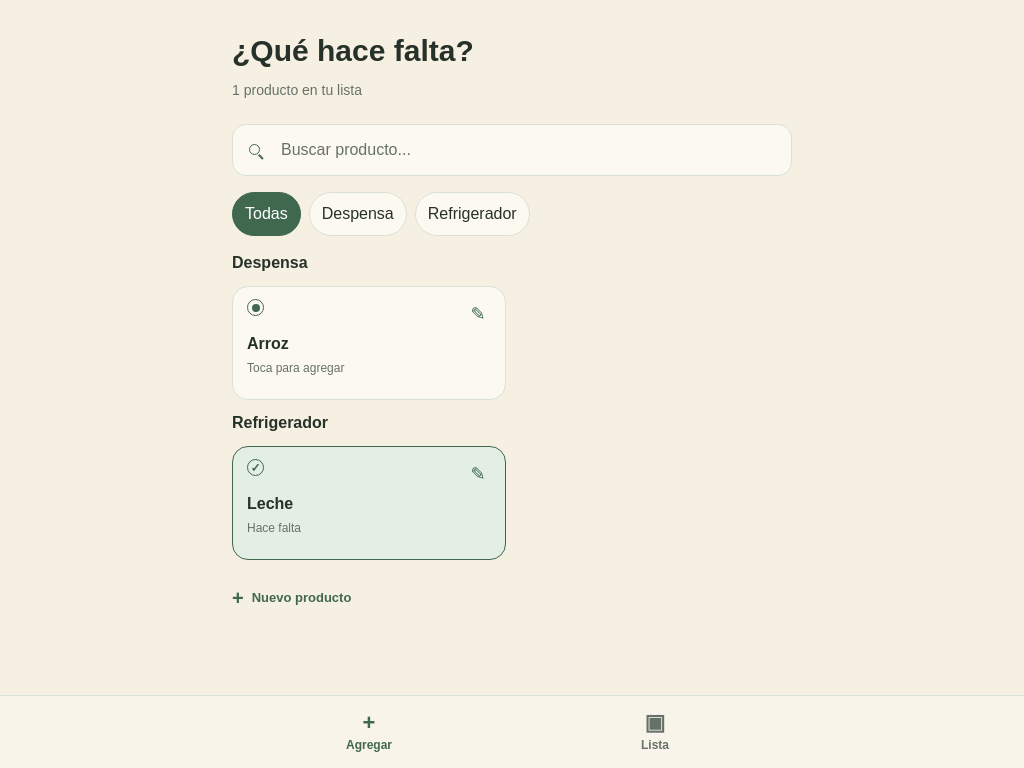
it: catálogo y lista pendiente › muestra solo pendientes en /list y permite quitarlos
The width and height of the screenshot is (1024, 768).
What coordinates should you click on to do the following:
click the link with aria-label "Lista (1)"
I would click on:
 (655, 730)
Its box is [641,710,669,752].
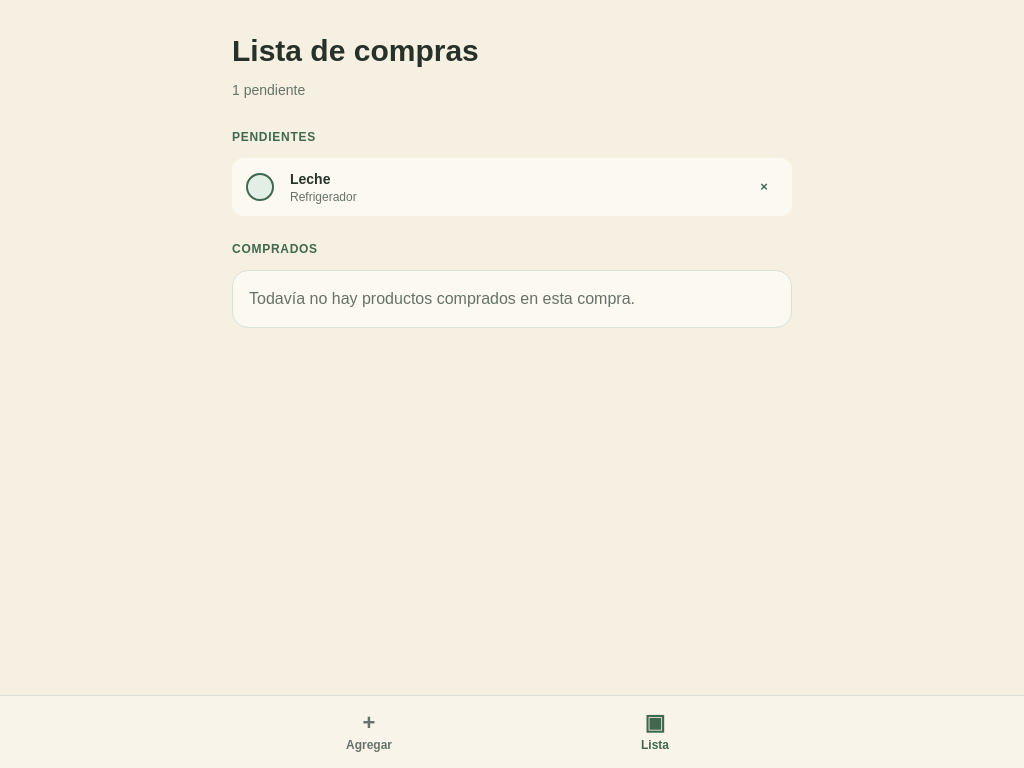
Expected: the heading "Leche" is shown, [290,171,330,187]
Now the button "Arroz" is gone
Now the text "1 pendiente" is shown, box [232,82,305,98]
What coordinates should you click on to do the following:
click the button named "Quitar de la lista"
I would click on:
 (764, 187)
Its box is [742,165,786,209].
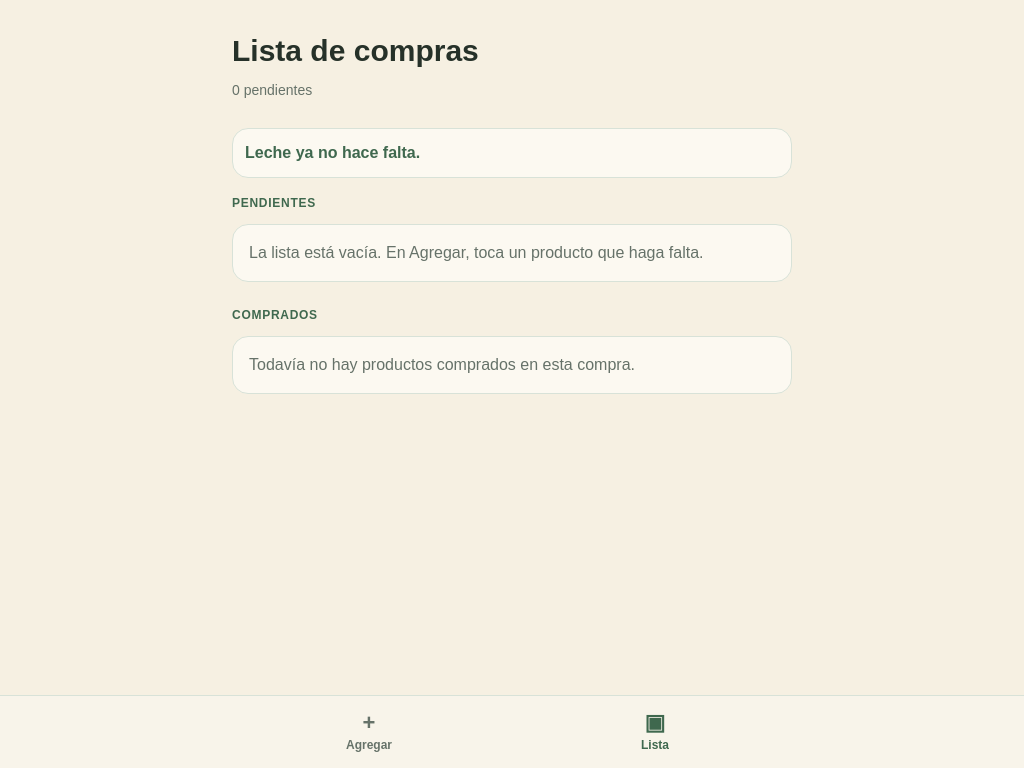
Expected: the link with aria-label "Lista (0)" is shown, [641,710,669,752]
Now the text "La lista está vacía. En Agregar, toca un producto que haga falta." is shown, box [232,224,792,282]
